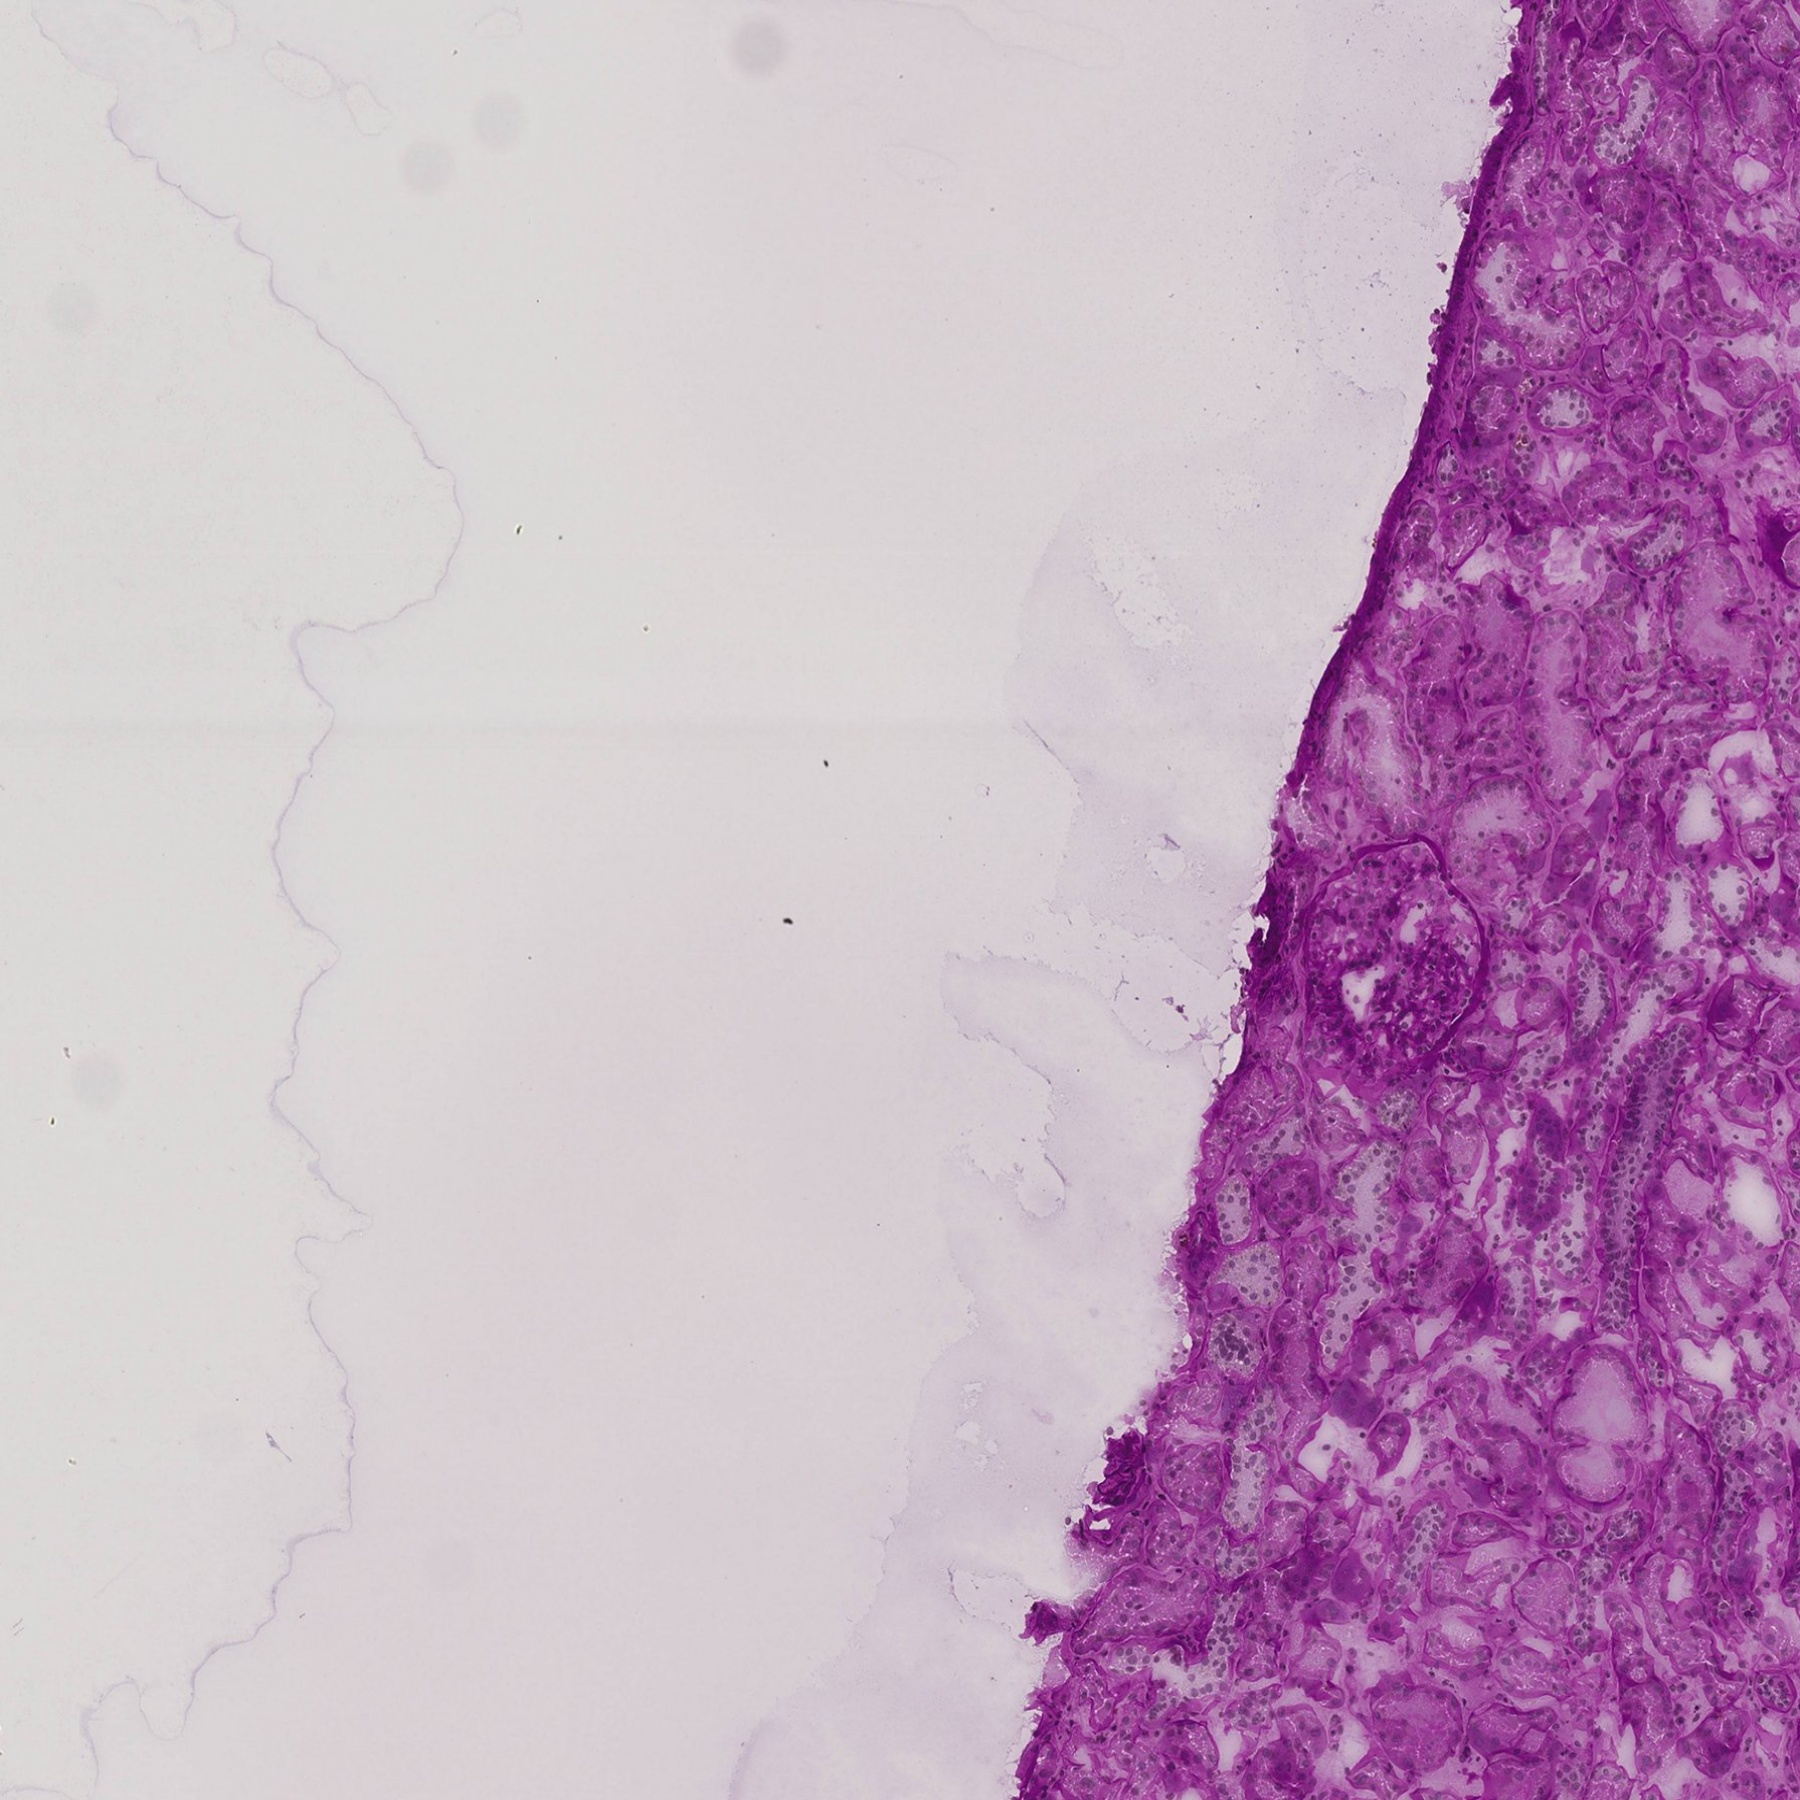Glomeruli: (1299, 834, 1487, 1078)
